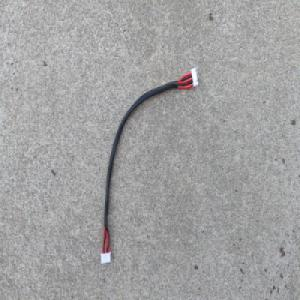Wire: (99, 65, 200, 266)
